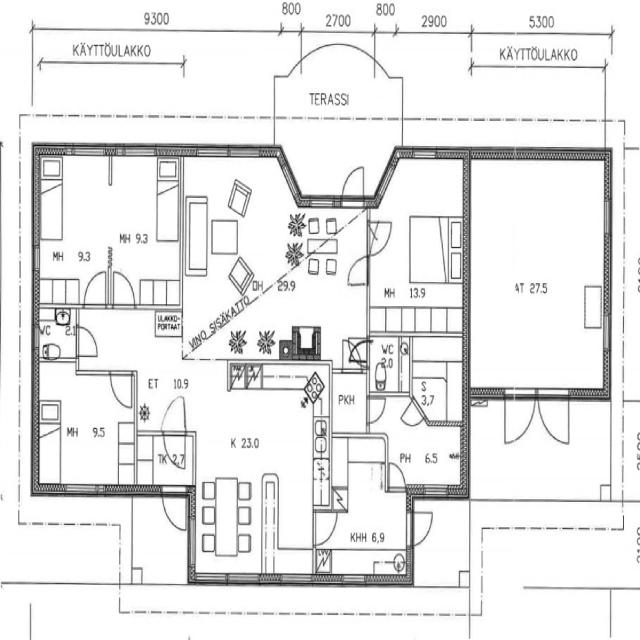door: (467, 160, 607, 389), (503, 397, 571, 451), (160, 394, 188, 473), (109, 266, 138, 312), (160, 489, 189, 533), (81, 267, 109, 312), (108, 368, 136, 413), (311, 506, 340, 548), (339, 162, 367, 205), (409, 506, 435, 549), (368, 219, 394, 258), (75, 322, 101, 360), (346, 254, 371, 288), (400, 399, 426, 430), (385, 460, 408, 492), (366, 394, 388, 426), (342, 340, 362, 369), (347, 336, 366, 366)
window: (200, 142, 264, 162), (600, 187, 616, 241), (119, 142, 158, 161), (63, 481, 101, 500), (303, 192, 343, 210), (70, 142, 108, 160), (194, 569, 229, 588), (600, 304, 613, 355), (224, 571, 262, 588), (276, 571, 314, 588), (228, 144, 260, 163), (421, 482, 451, 502), (30, 241, 43, 280), (340, 570, 369, 587), (411, 145, 438, 162)
zone: (184, 152, 367, 356), (468, 158, 610, 388), (193, 360, 331, 580), (367, 157, 466, 336), (34, 367, 135, 491), (314, 455, 412, 582), (36, 152, 110, 309), (109, 153, 181, 309), (195, 481, 268, 579), (409, 334, 467, 426), (367, 334, 410, 396), (329, 369, 368, 437), (35, 306, 78, 364), (621, 400, 640, 504)
